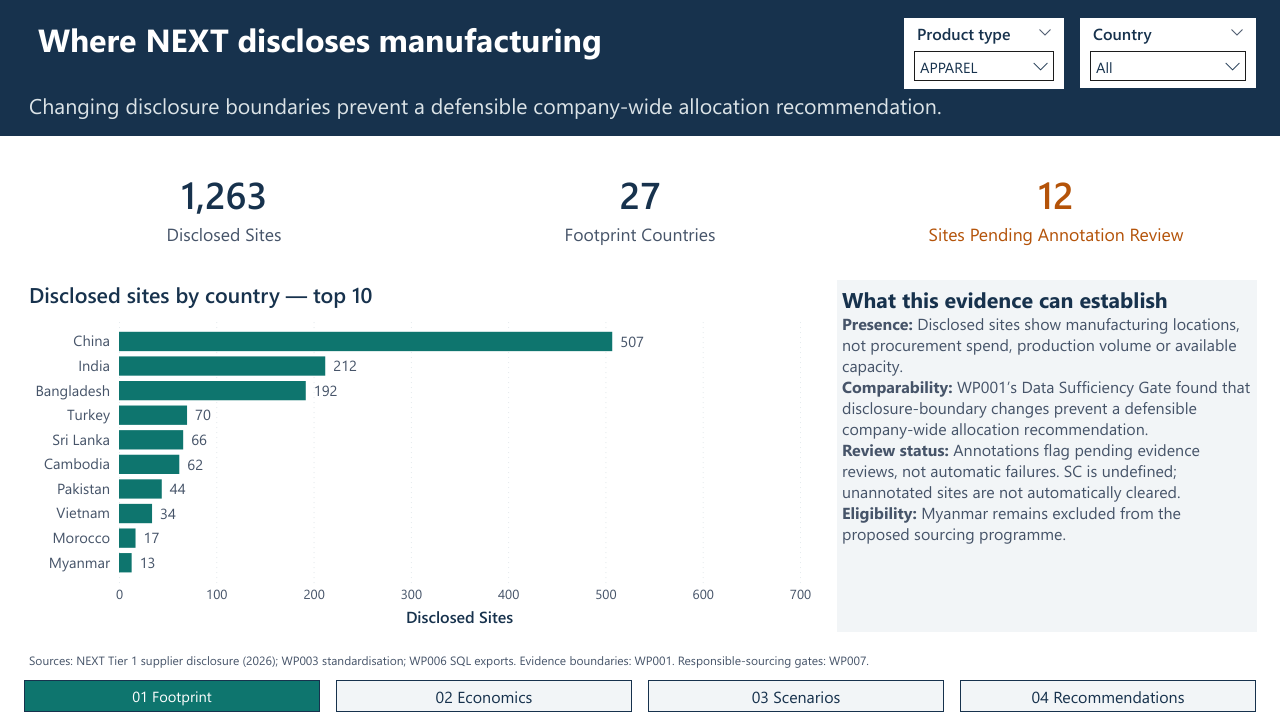

The page's visual inventory and layout, read from the dashboard file:
{"tool":"powerbi","page":{"name":"01 Footprint","canvas":[1280,720],"ordinal":1},"visuals":[{"type":"shape","box":[0,0,1280,136],"z":0},{"type":"textbox","box":[24,12,1232,60],"z":2000},{"type":"textbox","box":[24,86.4,1232.3,42],"z":3000},{"type":"slicer","fields":{"Values":["FactSiteFootprint.product_type_standardized"]},"box":[904.3,18,159.5,71.2],"z":4000},{"type":"slicer","fields":{"Values":["DimCountry.Country"]},"box":[1079.8,18,176.7,69.9],"z":5000},{"type":"card","fields":{"Values":["FactSiteFootprint.Disclosed Sites"]},"box":[24,156,400,100],"z":6000},{"type":"card","fields":{"Values":["FactSiteFootprint.Footprint Countries"]},"box":[440,156,400,100],"z":7000},{"type":"card","fields":{"Values":["FactSiteFootprint.Sites Pending Annotation Review"]},"box":[856,156,400,100],"z":8000},{"type":"clusteredBarChart","title":"Disclosed sites by country — top 10","fields":{"Category":["DimCountry.Country"],"Y":["FactSiteFootprint.Disclosed Sites"]},"box":[24,280,792,352],"z":9000},{"type":"textbox","box":[836.7,280,420,352],"z":10000},{"type":"textbox","box":[24,644,1232,30],"z":11000},{"type":"pageNavigator","box":[24,680,1232,32],"z":12000}]}

Visuals, with their boxes in screenshot pixels (x1, y1, x2, y2), scaled from the page's 1280x720 canvas onto the 1280x720 screenshot:
shape: x1=0 y1=0 x2=1279 y2=136
textbox: x1=24 y1=12 x2=1256 y2=72
textbox: x1=24 y1=86 x2=1256 y2=128
slicer - FactSiteFootprint.product_type_standardized: x1=904 y1=18 x2=1064 y2=89
slicer - DimCountry.Country: x1=1080 y1=18 x2=1256 y2=88
card - FactSiteFootprint.Disclosed Sites: x1=24 y1=156 x2=424 y2=256
card - FactSiteFootprint.Footprint Countries: x1=440 y1=156 x2=840 y2=256
card - FactSiteFootprint.Sites Pending Annotation Review: x1=856 y1=156 x2=1256 y2=256
"Disclosed sites by country — top 10" clusteredBarChart: x1=24 y1=280 x2=816 y2=632
textbox: x1=837 y1=280 x2=1257 y2=632
textbox: x1=24 y1=644 x2=1256 y2=674
pageNavigator: x1=24 y1=680 x2=1256 y2=712
